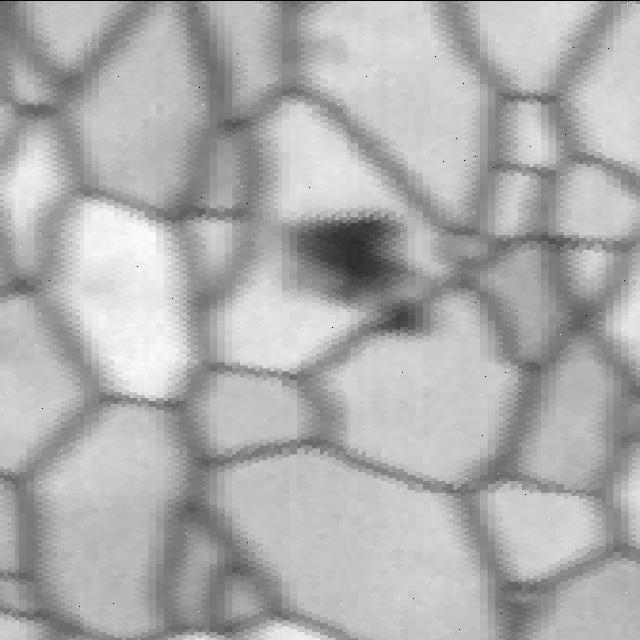good_void: (274, 208, 429, 333)
